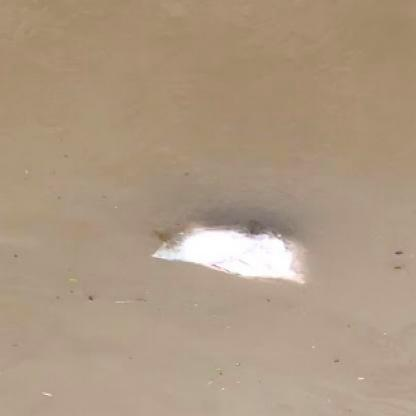Trash: (150, 214, 320, 288)
